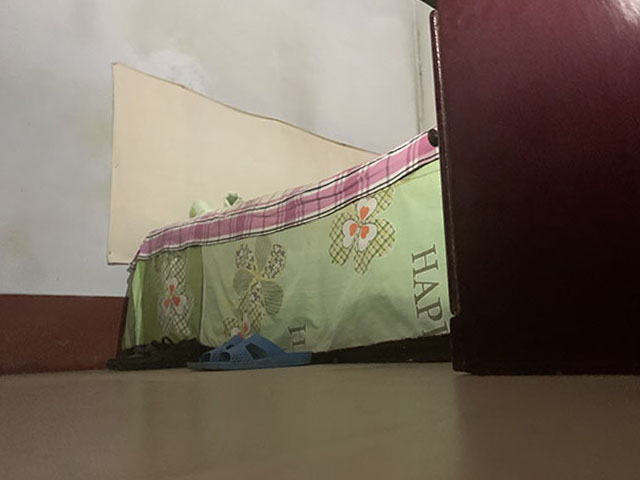bed: (116, 118, 453, 359)
cabinet: (413, 1, 636, 376)
slippers: (197, 337, 314, 372)
